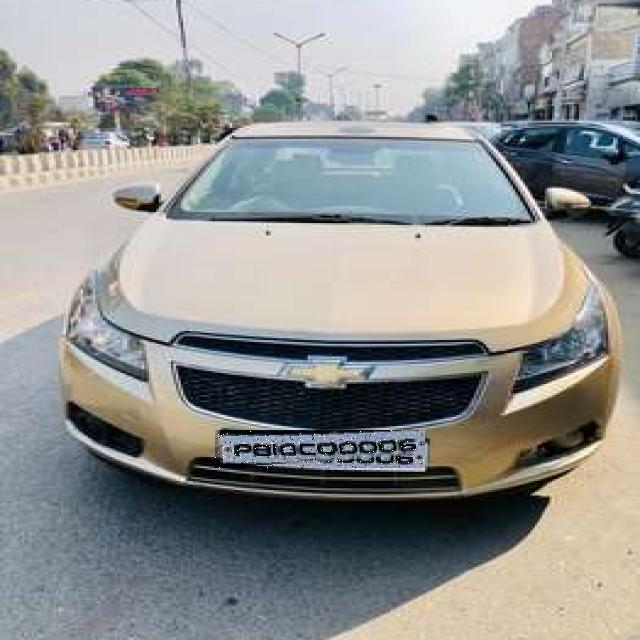Plate: (216, 431, 426, 469)
